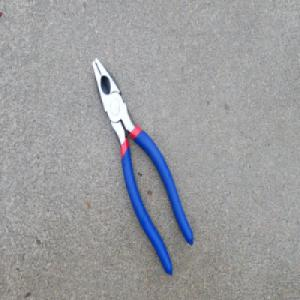Pliers: (90, 55, 194, 278)
